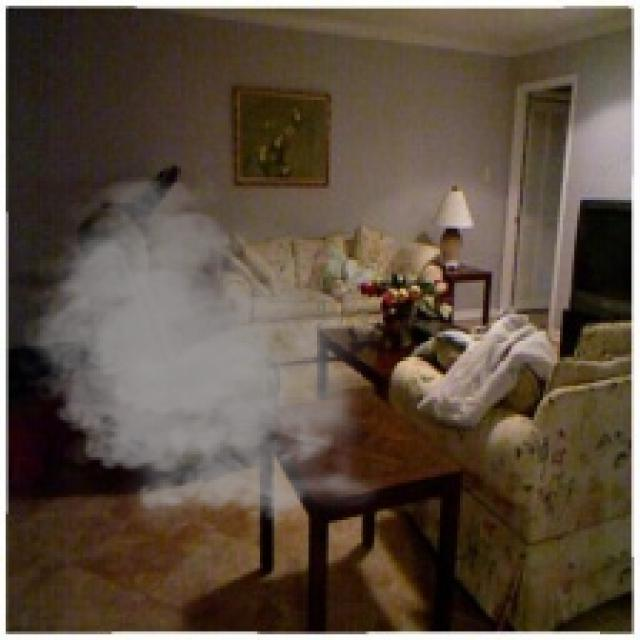Smoke: (11, 165, 392, 538)
